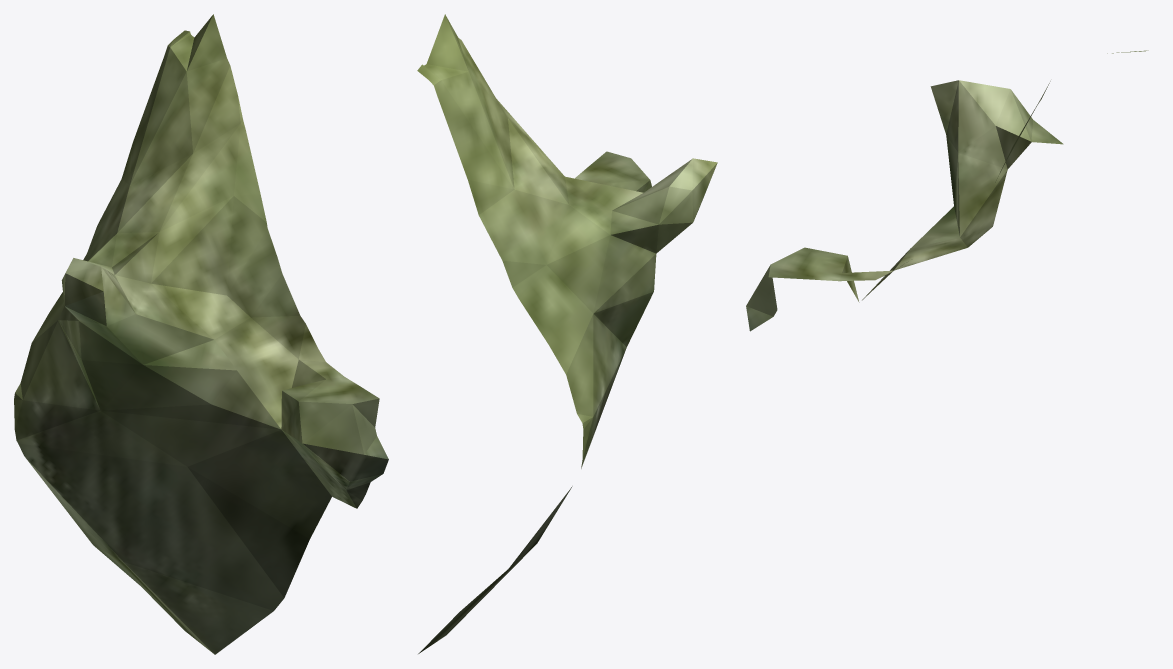
The picture shows the model from 3 angles, left to right: view 1: azimuth 30°, elevation 25°; view 2: azimuth 150°, elevation 25°; view 3: azimuth 270°, elevation 25°; orthographic projection. The views are drawn at different scales.
Bounding box in the file's own units: 0.4981 × 1.51 × 0.8801.
Materials: 1 (1 with a texture image).
